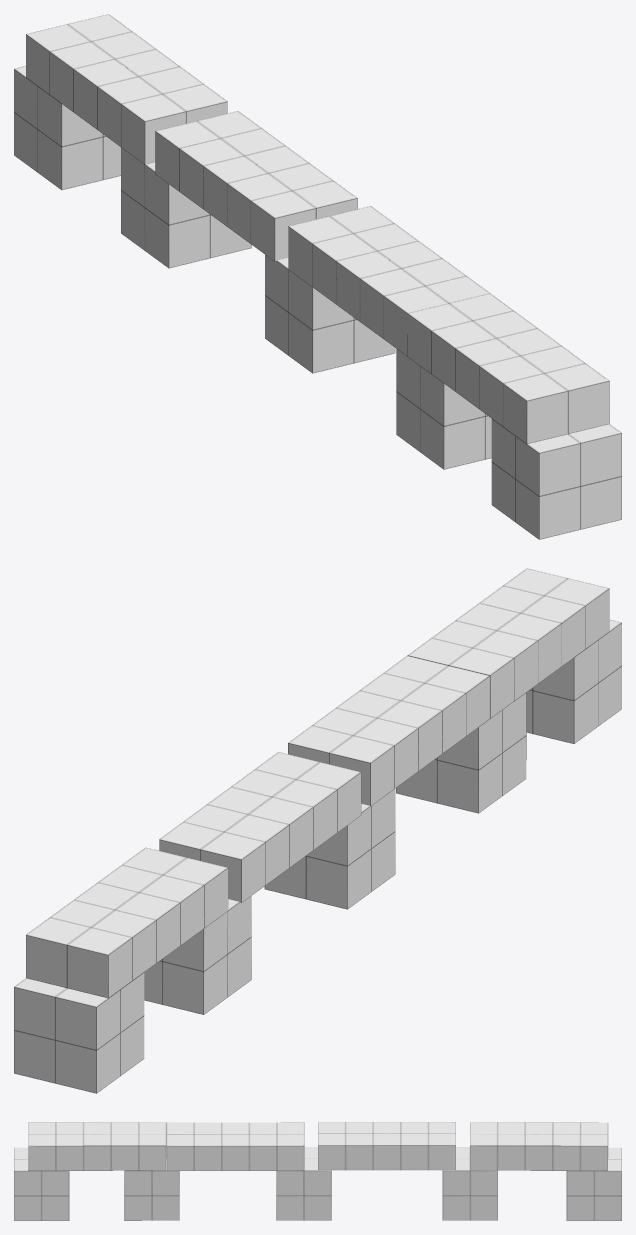
3 renders of one model, top to bottom at view 1: azimuth 30°, elevation 25°; view 2: azimuth 150°, elevation 25°; view 3: azimuth 270°, elevation 25°, orthographic. The views are drawn at different scales.
Visible parts, largest first — view 1: GridPlank_0:3, GridPlank_0:1, GridPlank_0, GridPlank_0:2, Plane/BasicEnvironment/StartCube-1, GridCube_0:1, GridCube_0, Plane/BasicEnvironment/StartCube-2, GridCube_0:2; view 2: GridPlank_0, GridPlank_0:1, GridPlank_0:2, GridPlank_0:3, Plane/BasicEnvironment/StartCube-2, GridCube_0:2, GridCube_0:1, GridCube_0, Plane/BasicEnvironment/StartCube-1; view 3: GridPlank_0:2, GridPlank_0:3, GridPlank_0, GridPlank_0:1, GridCube_0, Plane/BasicEnvironment/StartCube-1, GridCube_0:1, Plane/BasicEnvironment/StartCube-2, GridCube_0:2.
Part boxes in pixels (<box>): GridPlank_0:3: <box>407,293,609,443</box>; GridPlank_0:1: <box>155,111,357,261</box>; GridPlank_0: <box>26,14,227,164</box>; GridPlank_0:2: <box>288,206,489,355</box>; Plane/BasicEnvironment/StartCube-1: <box>491,419,621,539</box>; GridCube_0:1: <box>265,254,395,373</box>; GridCube_0: <box>121,147,251,268</box>; Plane/BasicEnvironment/StartCube-2: <box>14,66,120,189</box>; GridCube_0:2: <box>396,348,491,469</box>; GridPlank_0: <box>26,847,228,998</box>; GridPlank_0:1: <box>159,752,361,902</box>; GridPlank_0:2: <box>288,655,489,805</box>; GridPlank_0:3: <box>408,568,609,718</box>; Plane/BasicEnvironment/StartCube-2: <box>14,972,144,1093</box>; GridCube_0:2: <box>396,692,526,813</box>; GridCube_0:1: <box>264,788,395,909</box>; GridCube_0: <box>144,896,251,1014</box>; Plane/BasicEnvironment/StartCube-1: <box>526,619,621,743</box>; GridPlank_0:2: <box>166,1122,304,1170</box>; GridPlank_0:3: <box>28,1122,166,1170</box>; GridPlank_0: <box>470,1122,608,1170</box>; GridPlank_0:1: <box>318,1122,455,1170</box>; GridCube_0: <box>442,1147,497,1220</box>; Plane/BasicEnvironment/StartCube-1: <box>14,1147,69,1220</box>; GridCube_0:1: <box>276,1147,331,1220</box>; Plane/BasicEnvironment/StartCube-2: <box>566,1147,621,1220</box>; GridCube_0:2: <box>124,1159,179,1220</box>.
Size of the model in its own units: 0.2053 by 0.3006 by 2.2.
